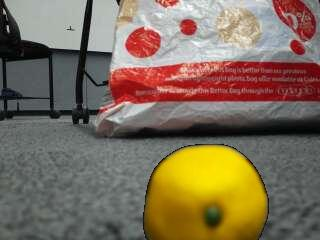lemon: (145, 144, 267, 240)
